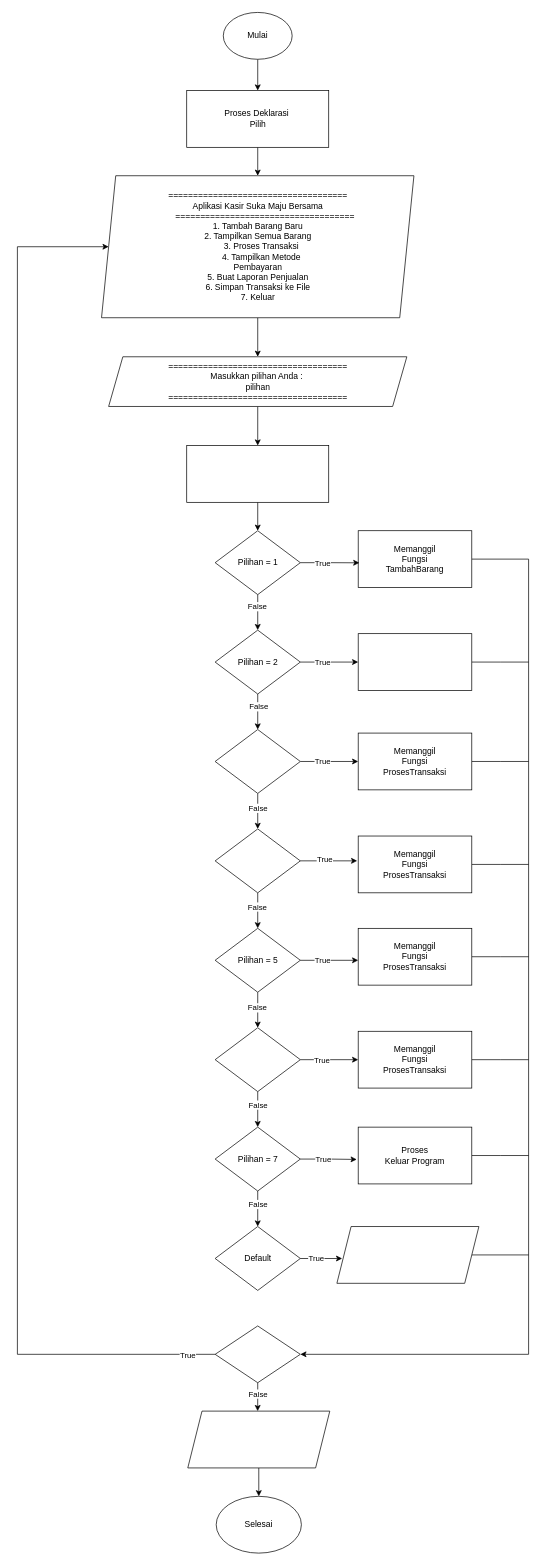
Some shapes in this 547 by 1566 pixel diagram are drawn without their labels. Each missing label, with the box of its shape:
Anda Keluar Dari Program: (187, 1410, 330, 1468)
Memanggil Fungsi TampilSemuaBarang: (357, 633, 472, 690)
Pilihan != 7: (214, 1325, 300, 1383)
Pilihan = 3: (214, 729, 300, 793)
Pilihan = 4: (214, 828, 300, 893)
Pilihan = 6: (214, 1027, 300, 1092)
Pilihan Tidak Valid. Coba Lagi.: (336, 1226, 479, 1283)
Proses Menerima Inputan Dari User: (186, 445, 329, 502)
